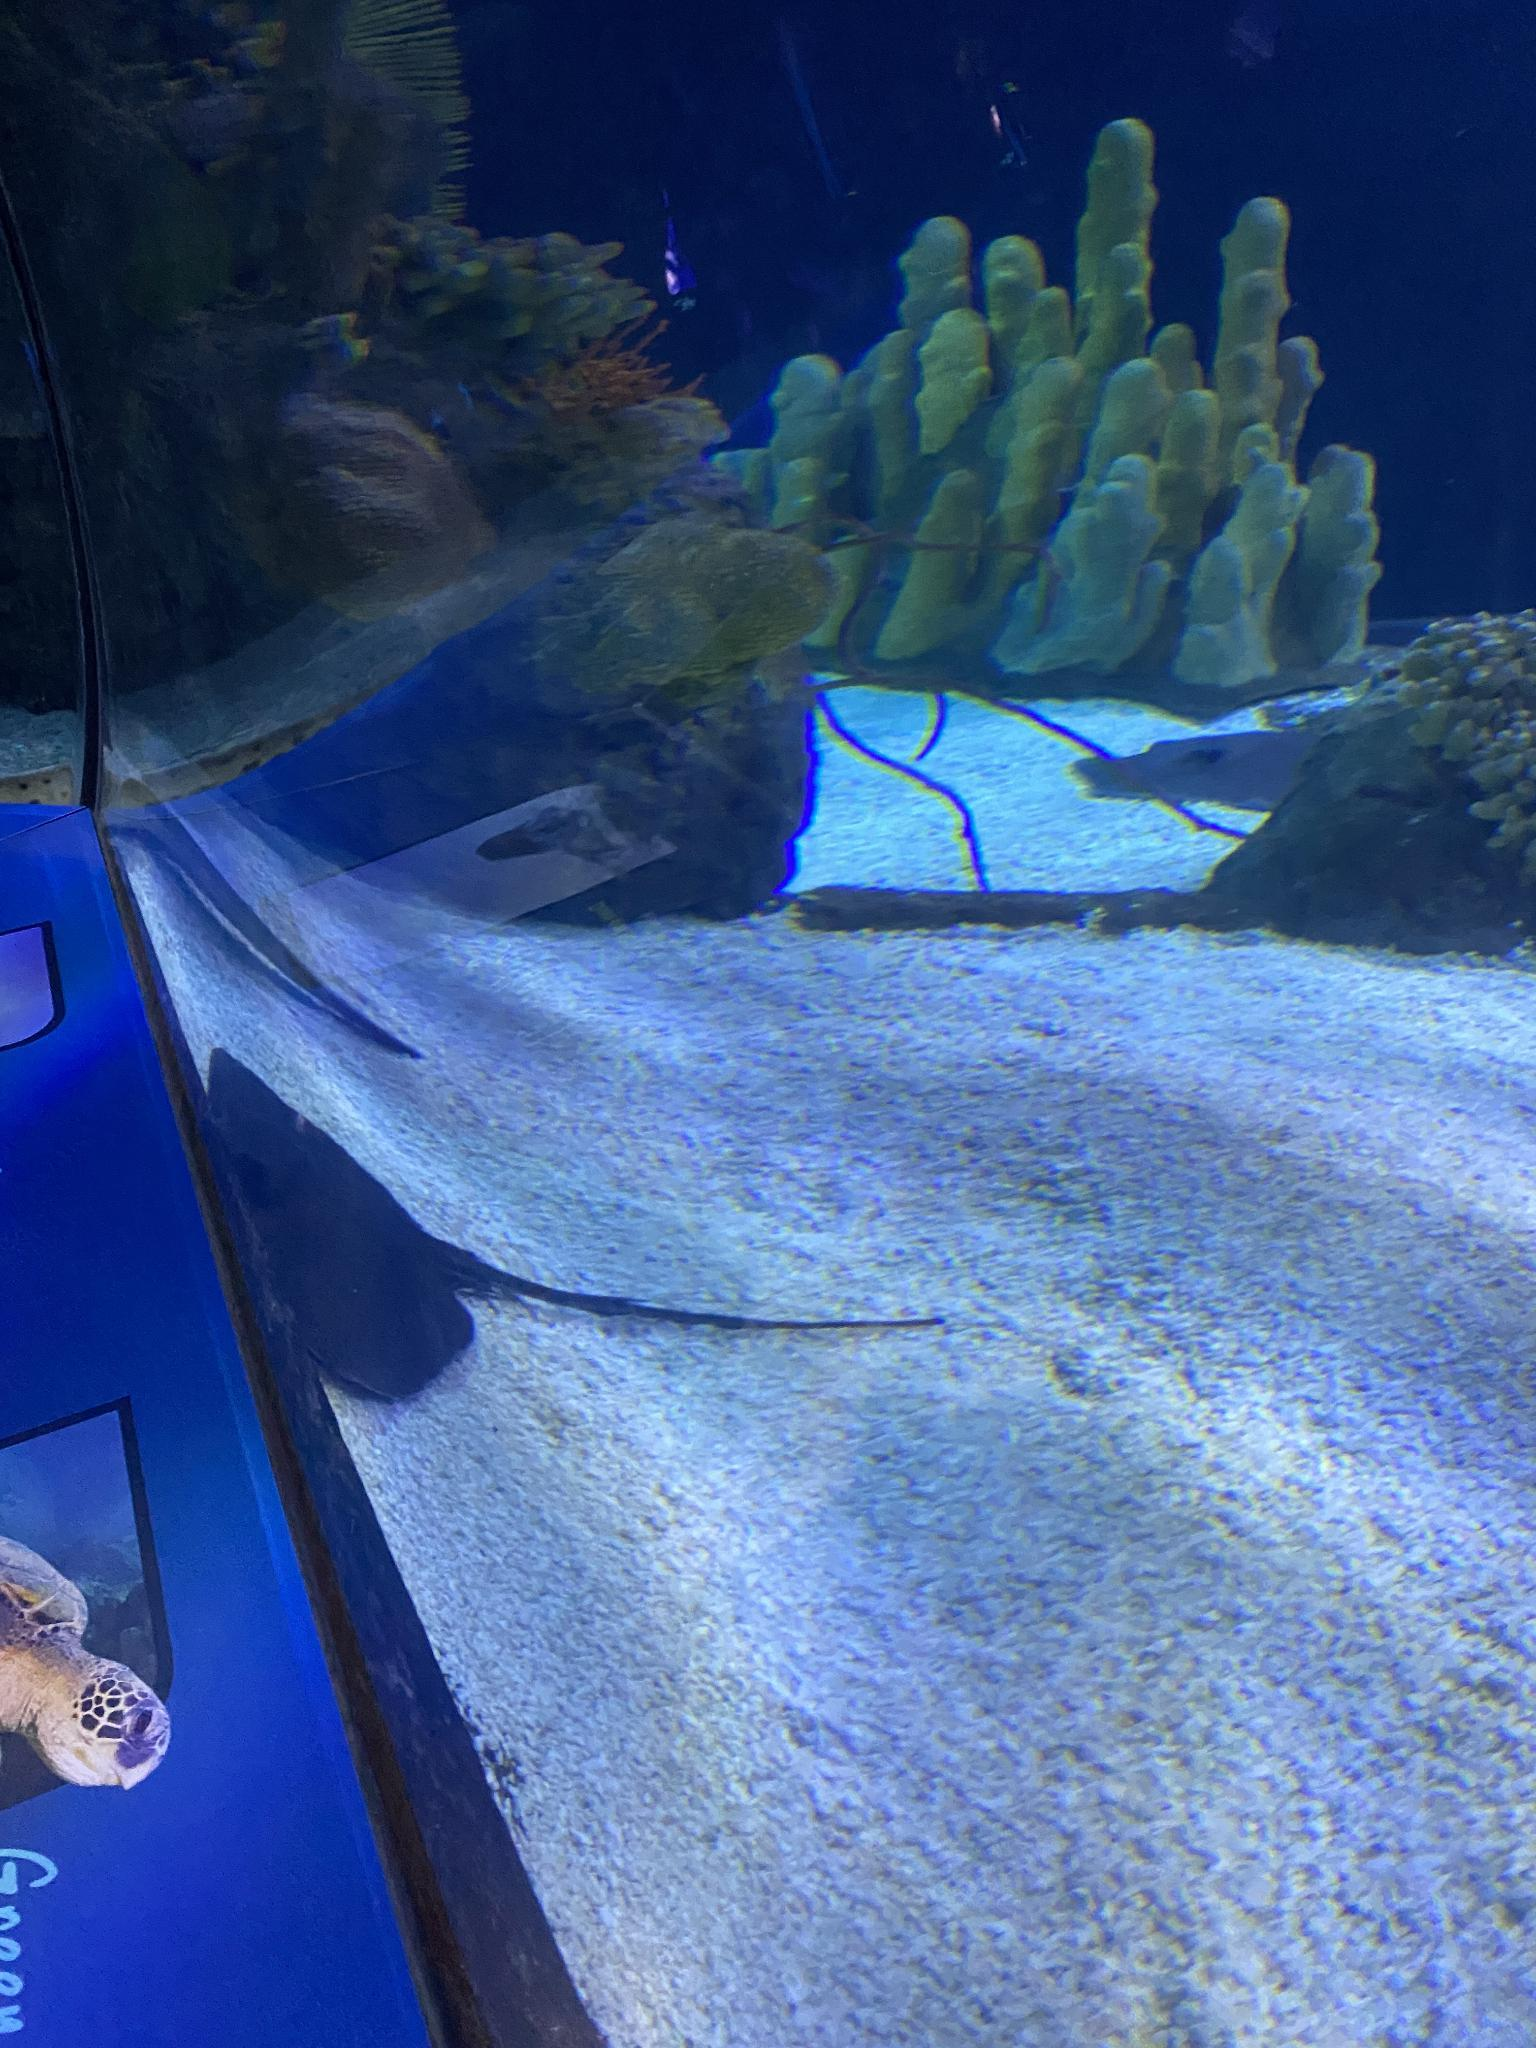stingray: (205, 1045, 474, 1408), (1068, 716, 1341, 819)
